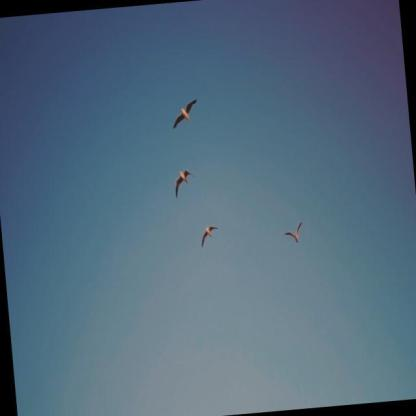bird: (170, 96, 202, 131), (172, 164, 198, 199), (283, 218, 306, 248), (198, 222, 222, 250)
